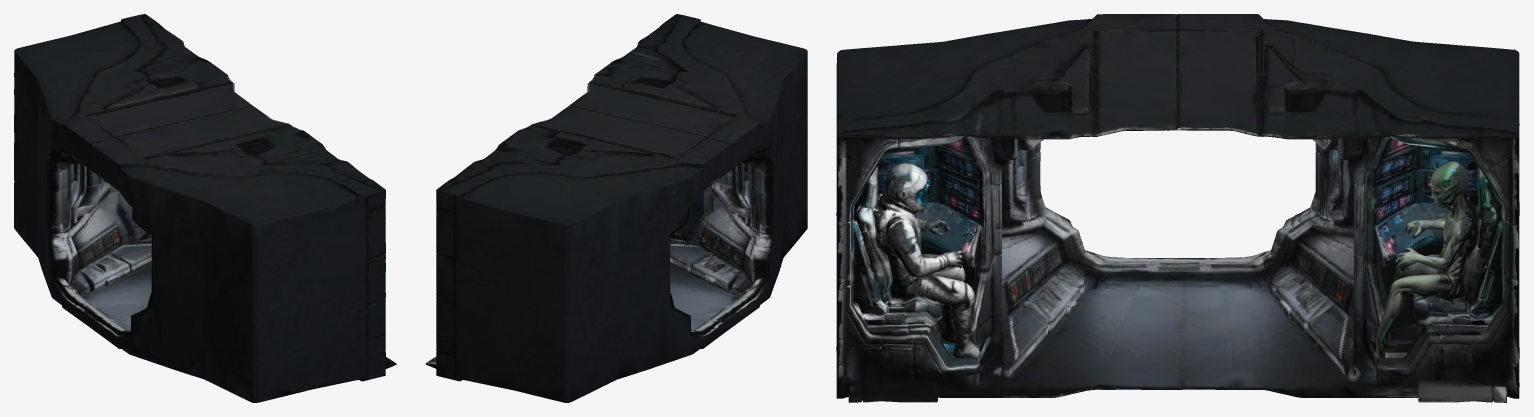
File: cockpit-mobile.glb
3 views of the same model, side by side, from view 1: azimuth 30°, elevation 25°; view 2: azimuth 150°, elevation 25°; view 3: azimuth 270°, elevation 25° (orthographic). The views are drawn at different scales.
Visible parts, largest first — view 1: tripo_node_99ad8be2-0044-4dc1-8878-a9b67f585a40; view 2: tripo_node_99ad8be2-0044-4dc1-8878-a9b67f585a40; view 3: tripo_node_99ad8be2-0044-4dc1-8878-a9b67f585a40.
Part boxes in pixels (x1,y1,x2,y2): tripo_node_99ad8be2-0044-4dc1-8878-a9b67f585a40: (14,14,396,402); tripo_node_99ad8be2-0044-4dc1-8878-a9b67f585a40: (425,14,807,402); tripo_node_99ad8be2-0044-4dc1-8878-a9b67f585a40: (836,14,1519,402).
Size of the model in its own units: 0.4554 by 0.4342 by 1.
Materials: 1 (1 with a texture image).
